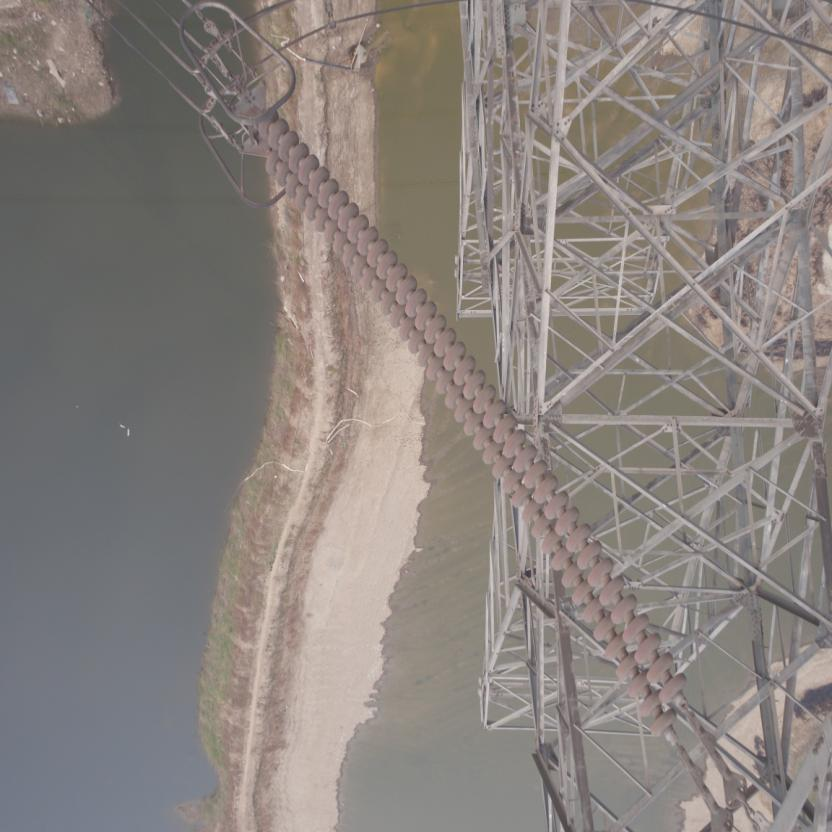insulator: (246, 105, 712, 769)
